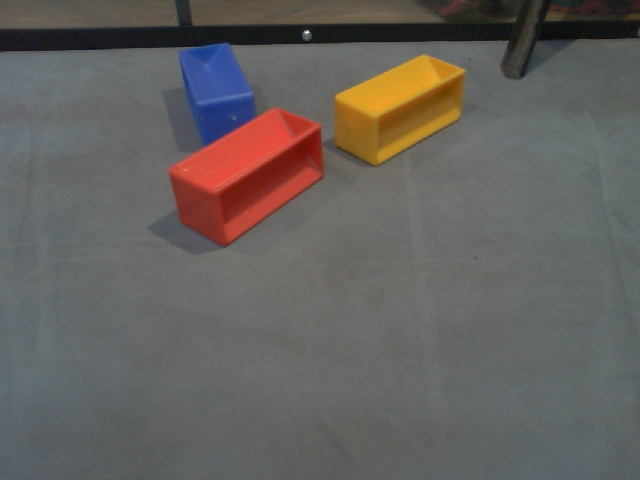BlueSample: (174, 42, 259, 148)
RedSample: (165, 107, 325, 246)
YellowSample: (331, 54, 466, 167)
